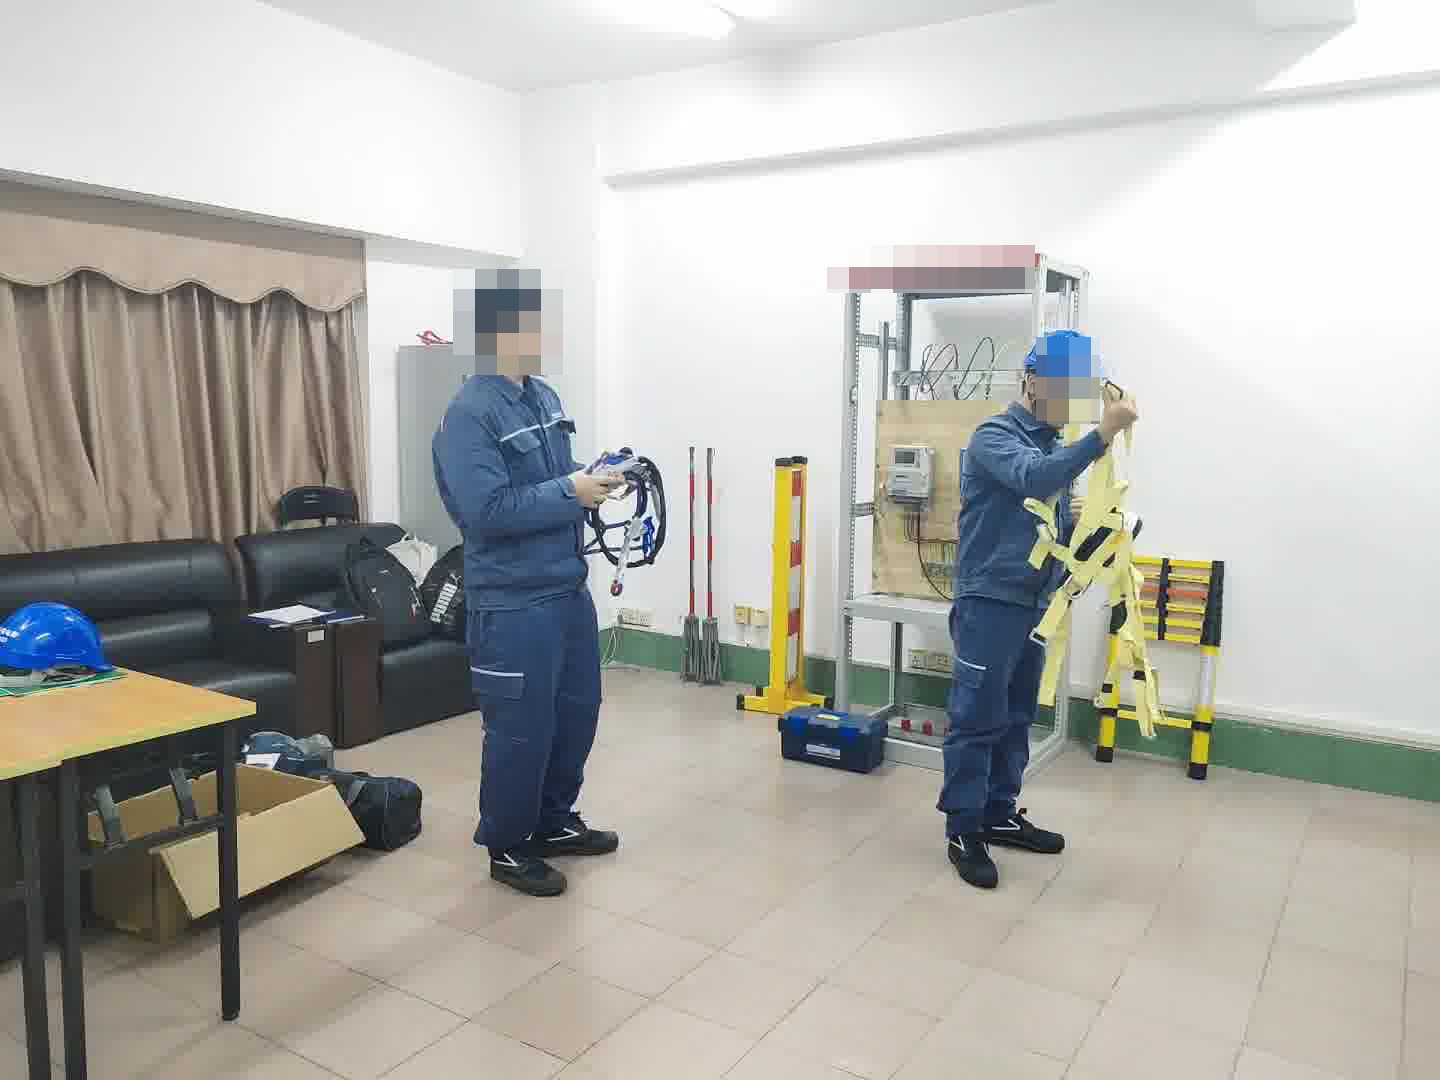downsuit: (463, 613, 605, 850), (937, 611, 1048, 822)
halt: (1020, 327, 1104, 423)
hand: (568, 465, 621, 515), (1099, 384, 1139, 438)
inear: (1021, 367, 1056, 415)
noear: (482, 307, 517, 360)
person: (427, 271, 624, 888), (932, 325, 1141, 889)
unhalt: (463, 272, 557, 374)
upsuit: (432, 364, 605, 593), (950, 400, 1101, 596)
